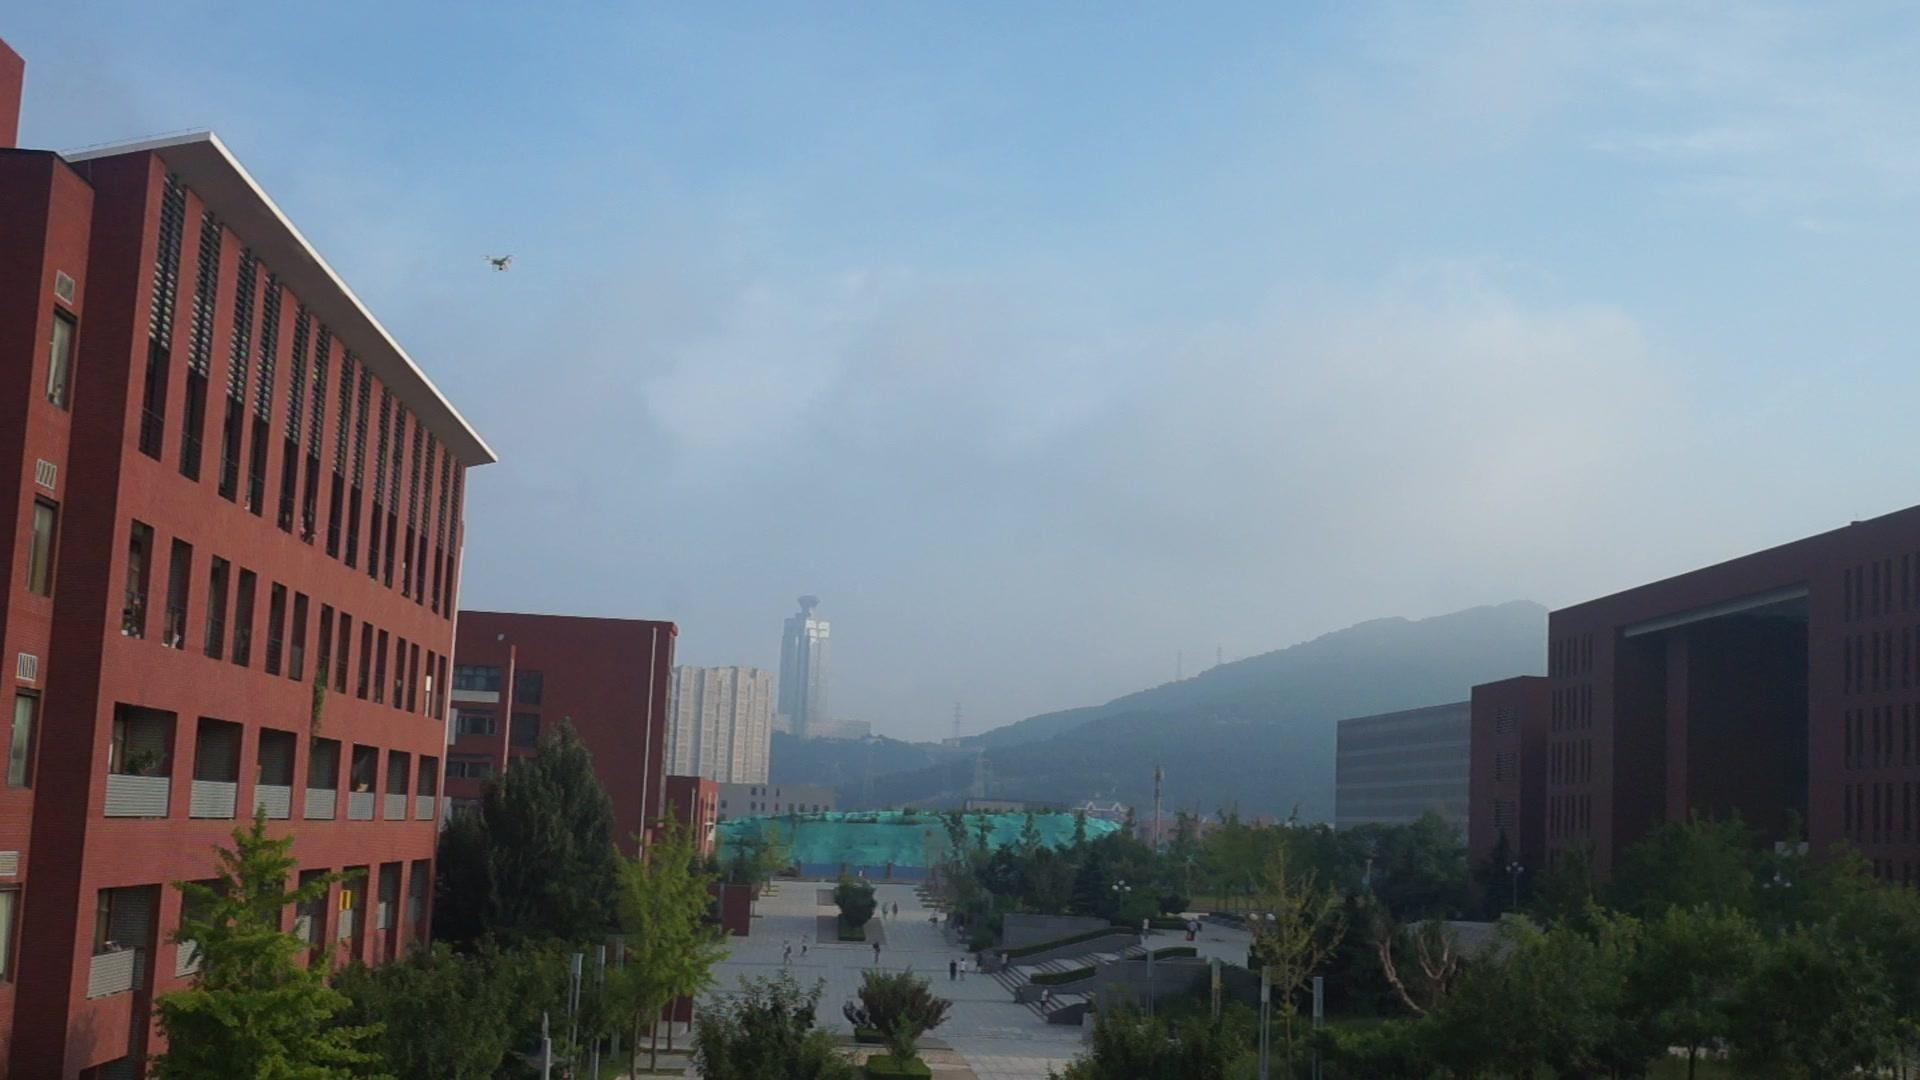UAV: (481, 255, 513, 272)
